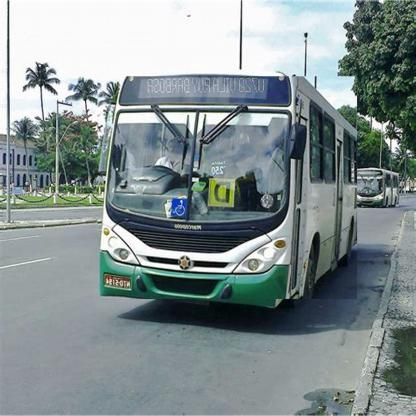bus: (98, 78, 358, 301), (353, 168, 400, 208)
